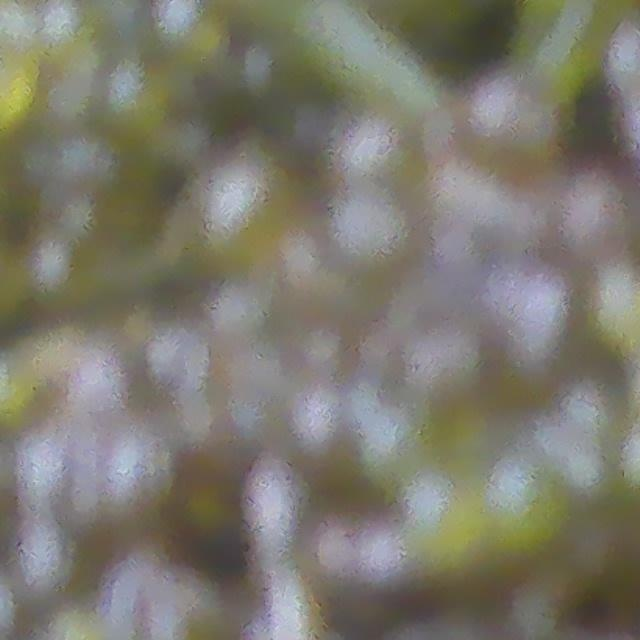SeaGrape: (487, 461, 548, 527)
